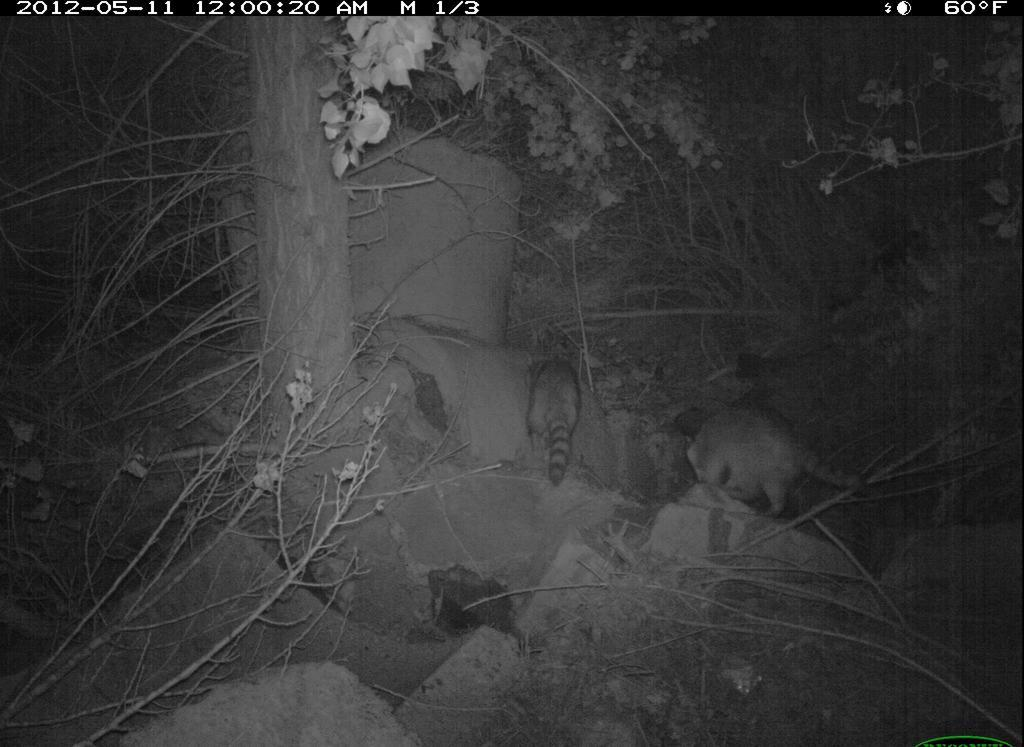raccoon: (685, 400, 885, 520), (519, 353, 584, 489)
